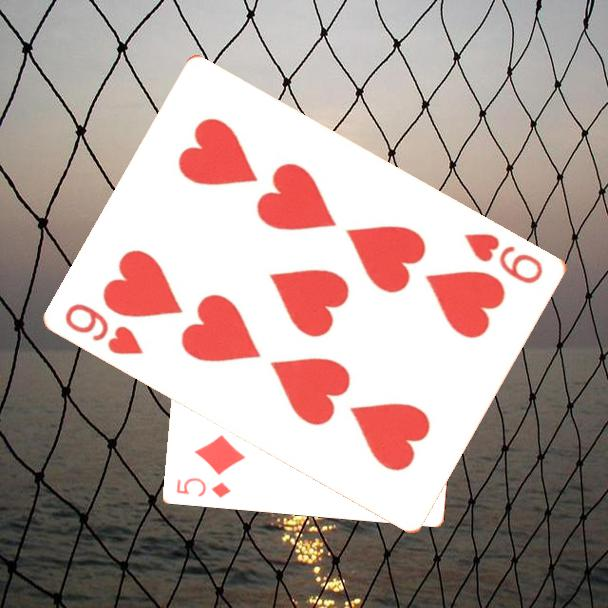d05: (173, 474, 234, 500)
h09: (62, 299, 147, 358), (461, 229, 547, 287)
